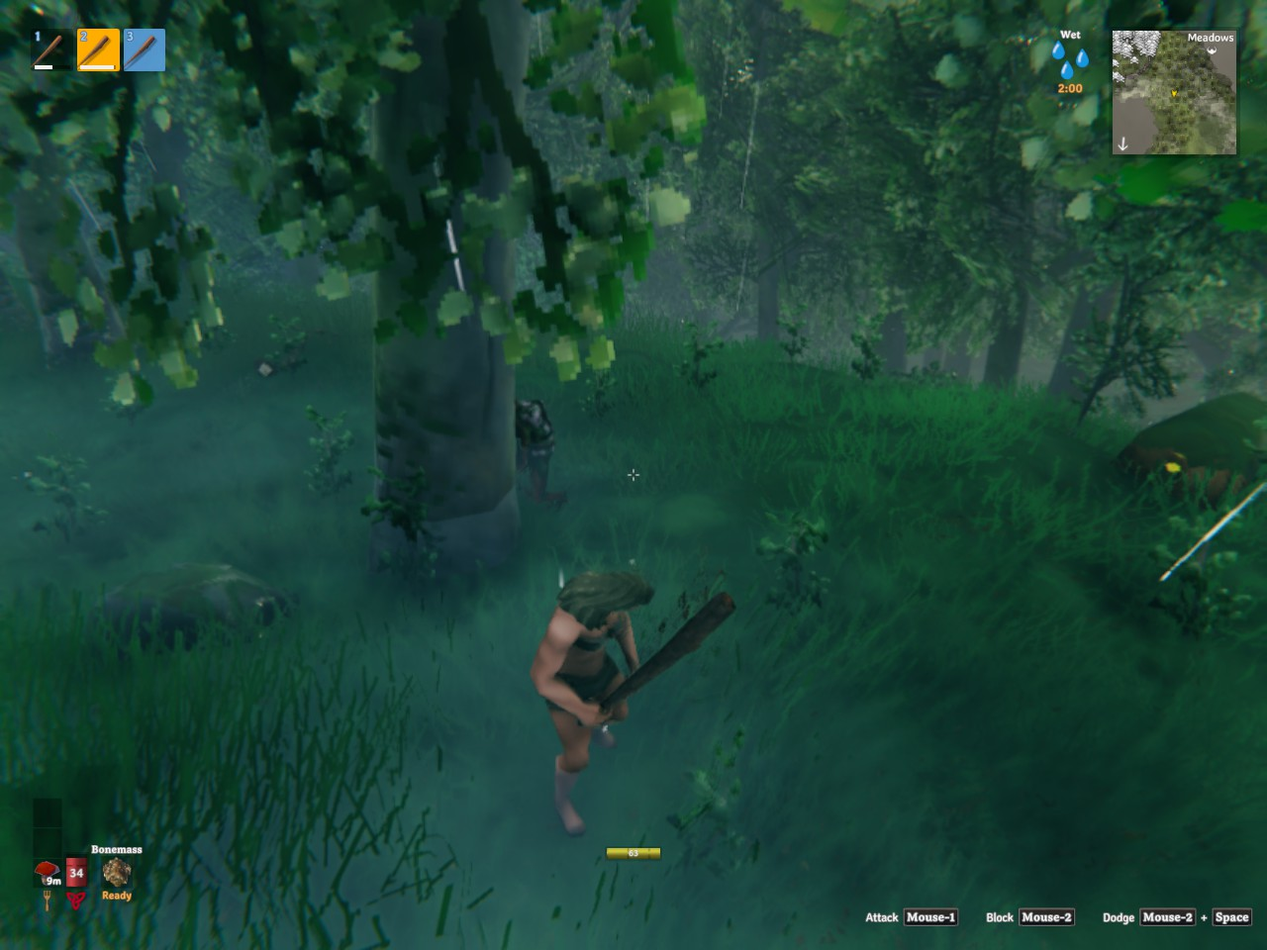Food Indicator: (36, 797, 63, 891)
Greyling: (516, 400, 566, 505)
Health Bar: (63, 820, 90, 891)
Hotbar: (24, 21, 195, 80)
Stamina Bar: (604, 840, 668, 866)
Status Indicator: (1024, 22, 1111, 100)
